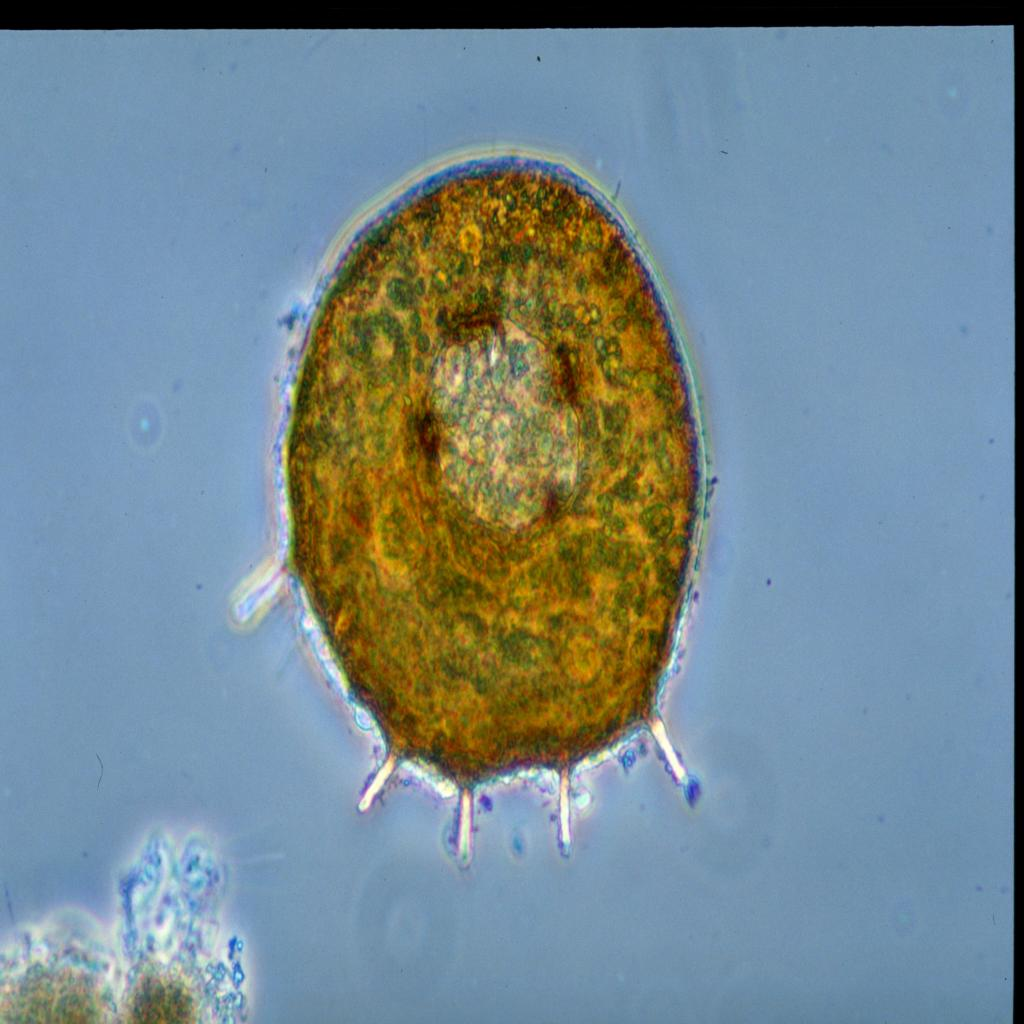Arcella: (226, 151, 738, 837)
